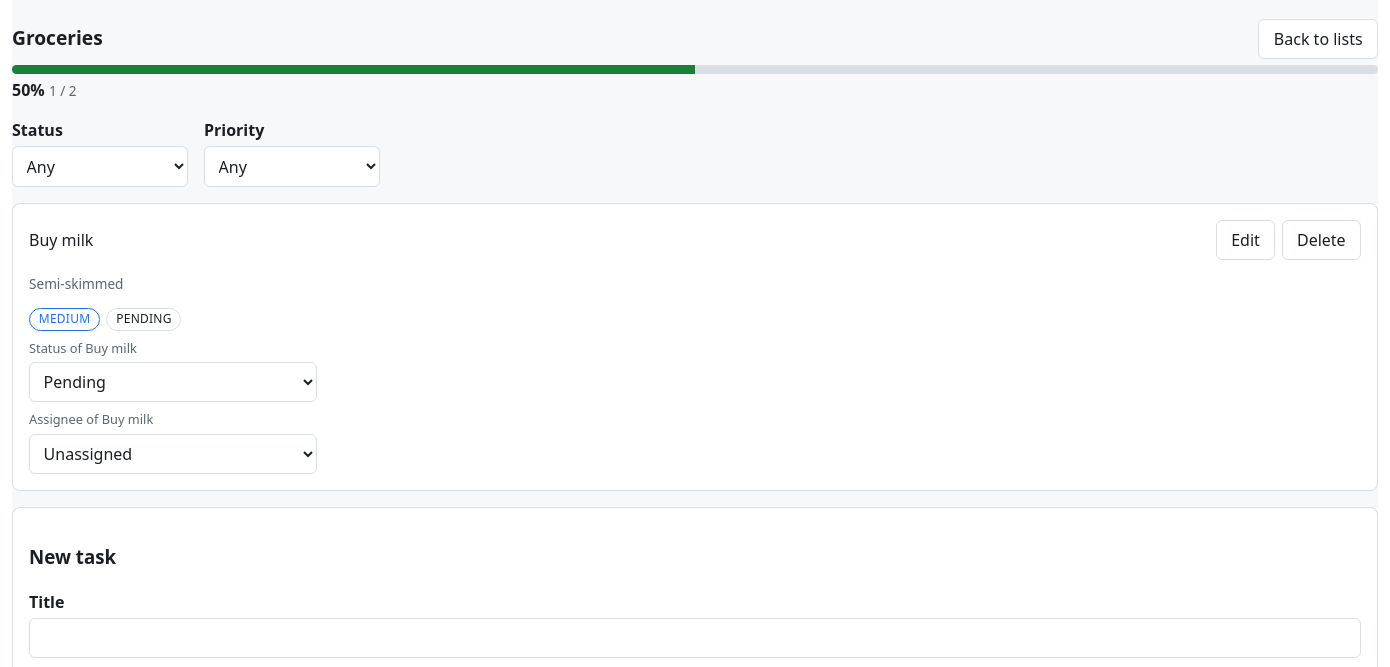
Test: filtering › drops a filtered answer that arrives after the unfiltered one that superseded it
The width and height of the screenshot is (1390, 667).
Expected: the text "Buy milk" is shown, x1=29 y1=228 x2=93 y2=252
# Request one: filtered. It is now in flight and will not answer yet.
Select "In progress" in the dropdown labelled "Status": {"x": 100, "y": 167} x1=12 y1=146 x2=188 y2=187
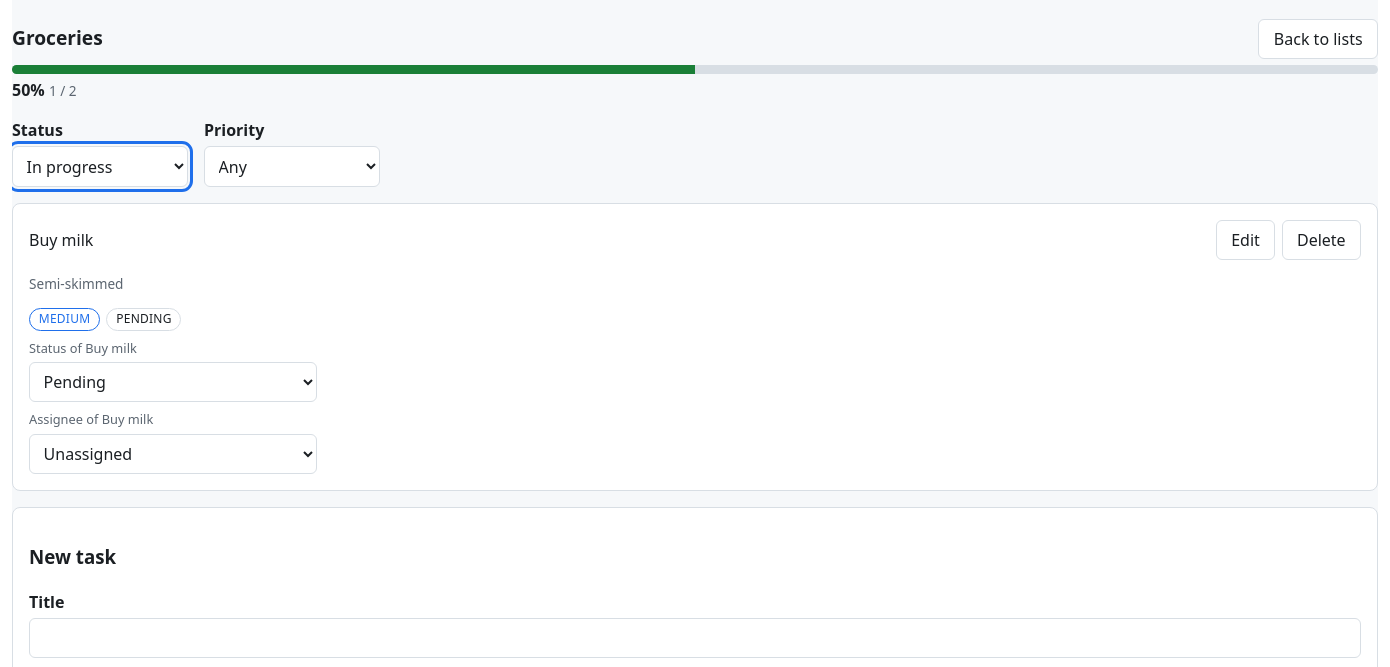
# Request two: unfiltered, sent later and answered first.
Select "Any" in the dropdown labelled "Status": {"x": 100, "y": 167} x1=12 y1=146 x2=188 y2=187
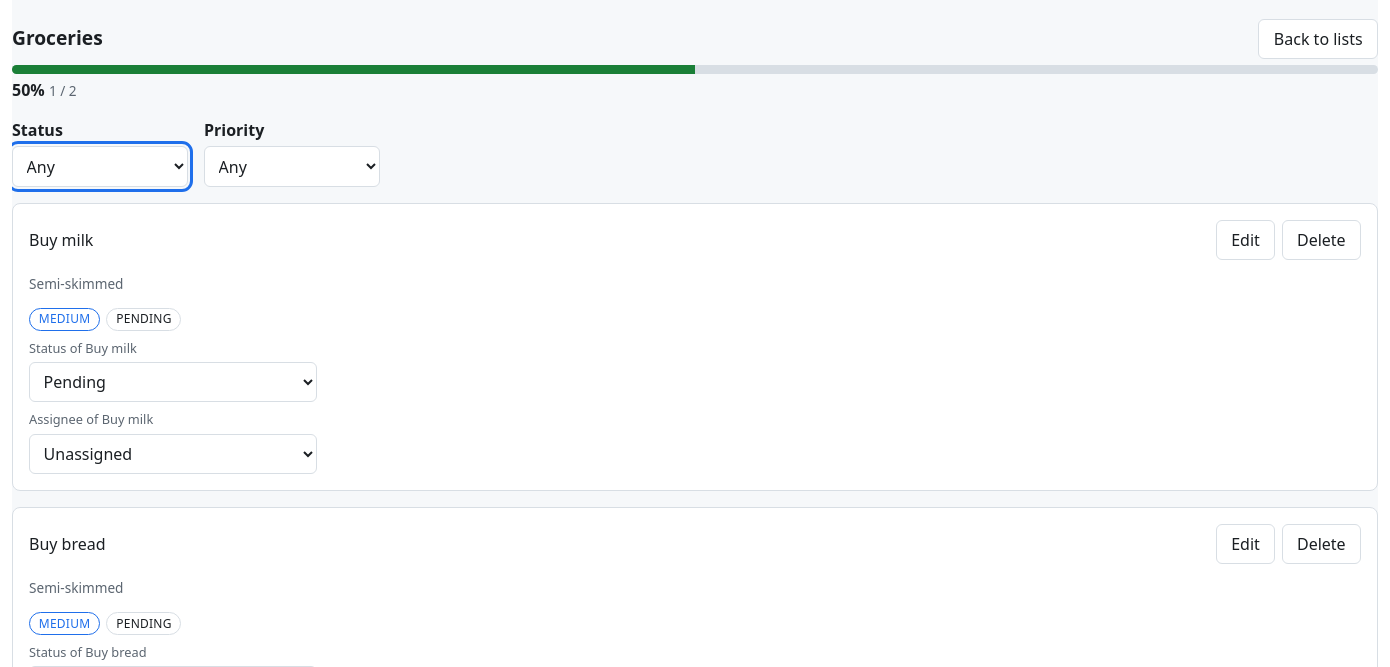
Expected: the text "50%" is shown, x1=12 y1=79 x2=45 y2=101
Expected: the text "Buy bread" is shown, x1=29 y1=532 x2=106 y2=556
